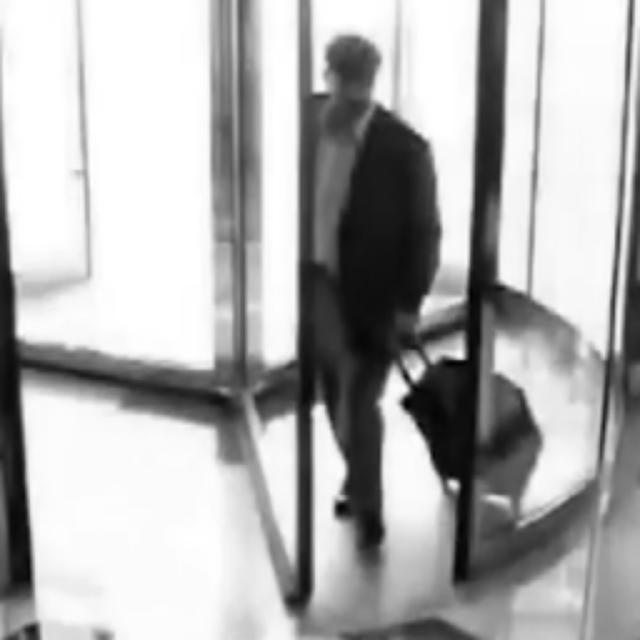Invader: (302, 30, 442, 552)
